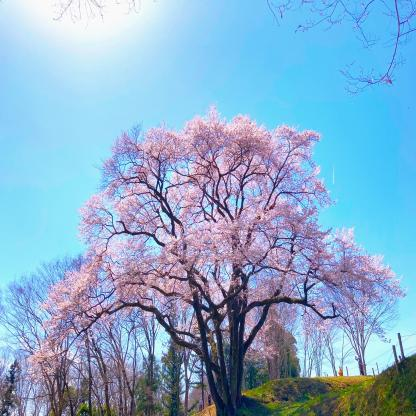EdohiganSakura: (26, 101, 337, 416)
